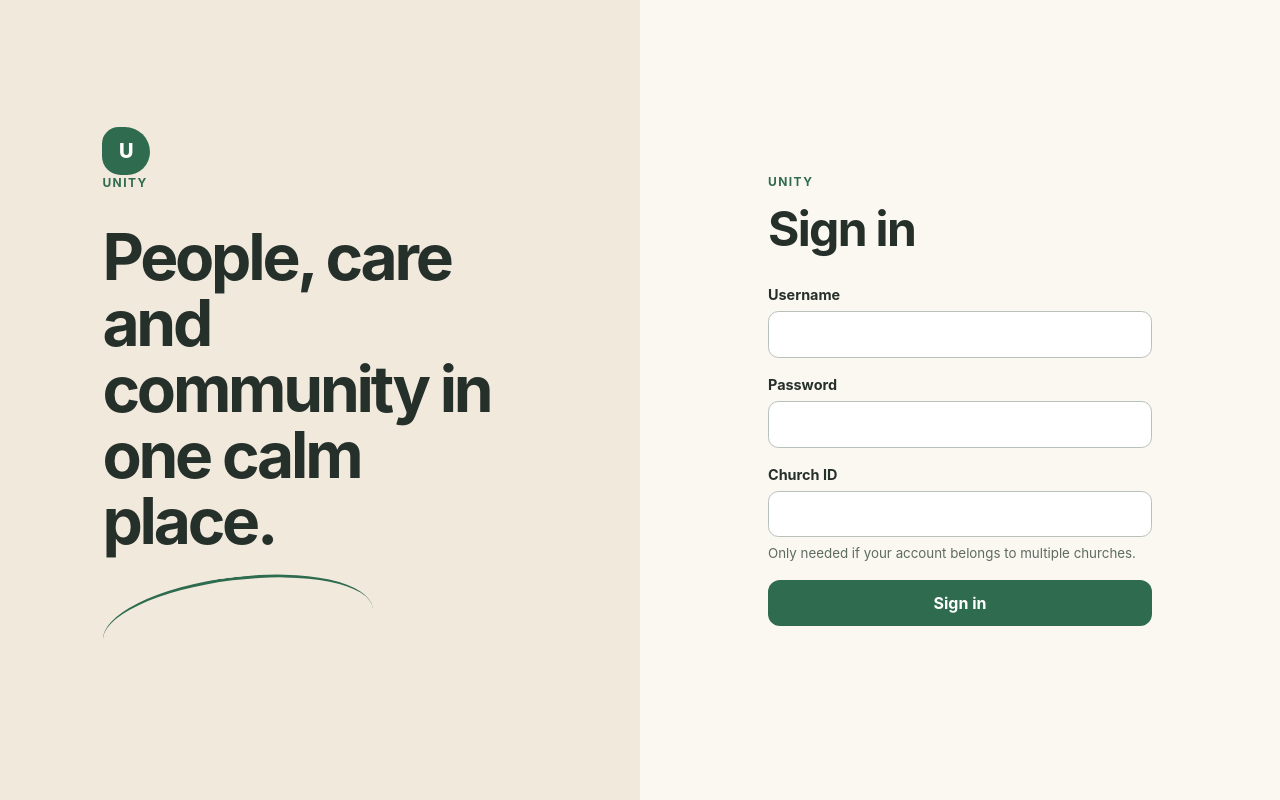
it: App authentication flow › signs in and shows the authenticated dashboard
Type "alex" into the field labelled "Username" at x=960, y=334, box x1=768 y1=311 x2=1152 y2=358
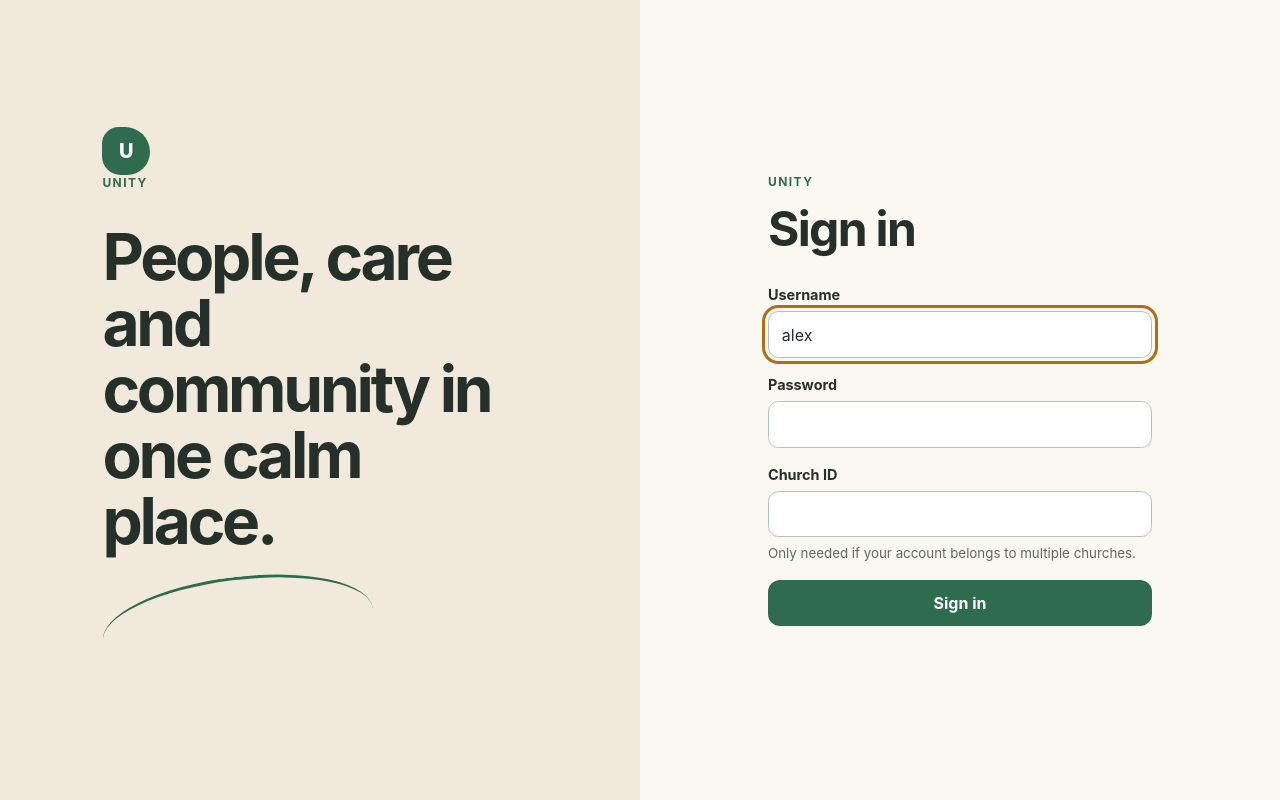
Type "secret" into the password field labelled "Password" at x=960, y=424, box x1=768 y1=401 x2=1152 y2=448
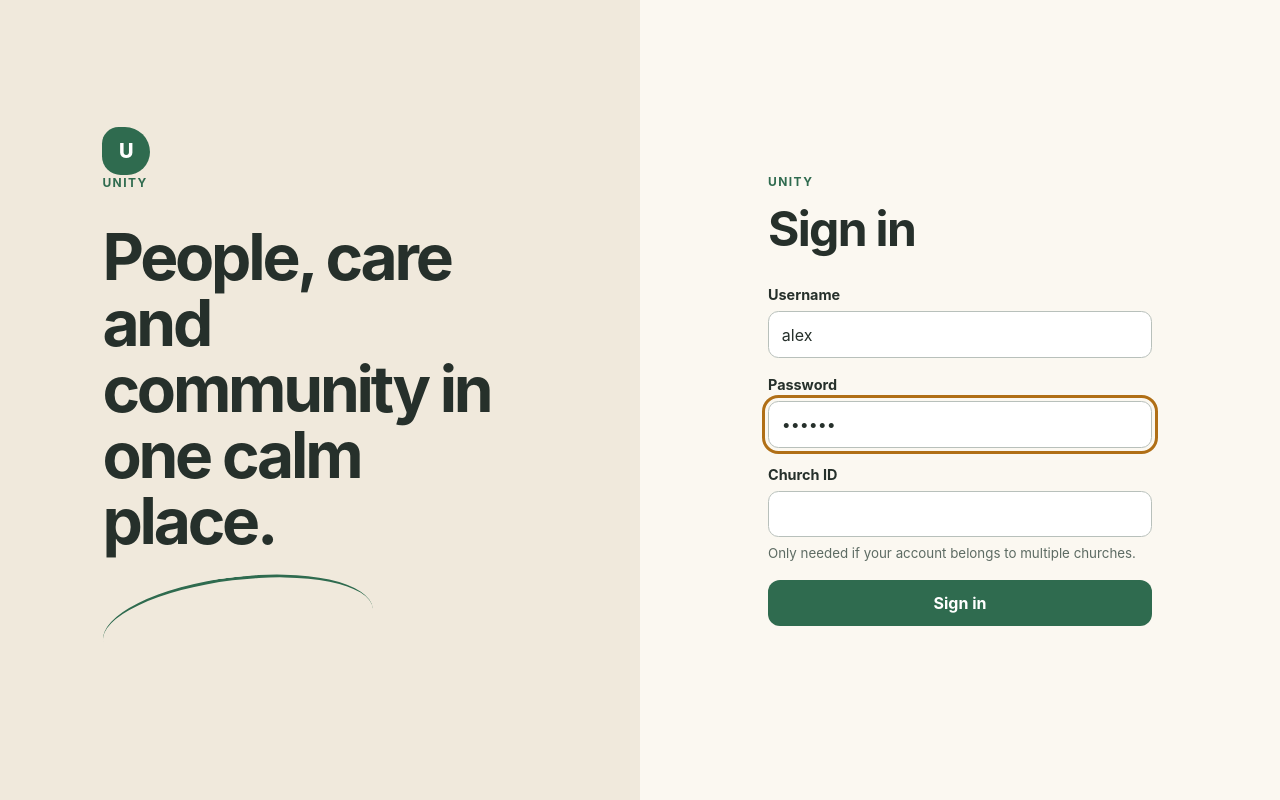
Click the button "Sign in" at x=960, y=603, box x1=768 y1=580 x2=1152 y2=626
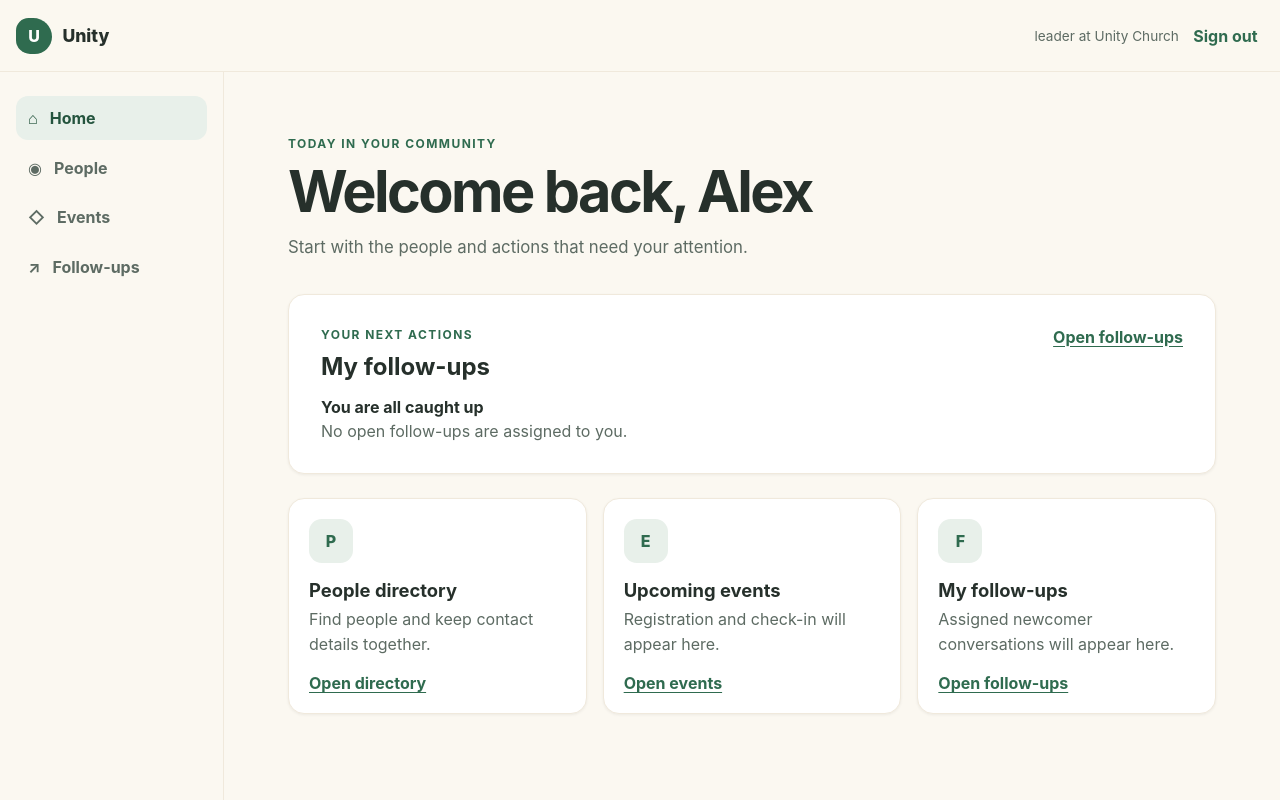
Now the heading "Welcome back, Alex" is shown, box x1=288 y1=156 x2=812 y2=226
